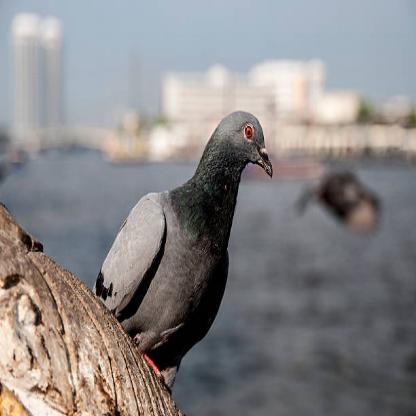Rock Pigeon: (89, 110, 272, 323)
